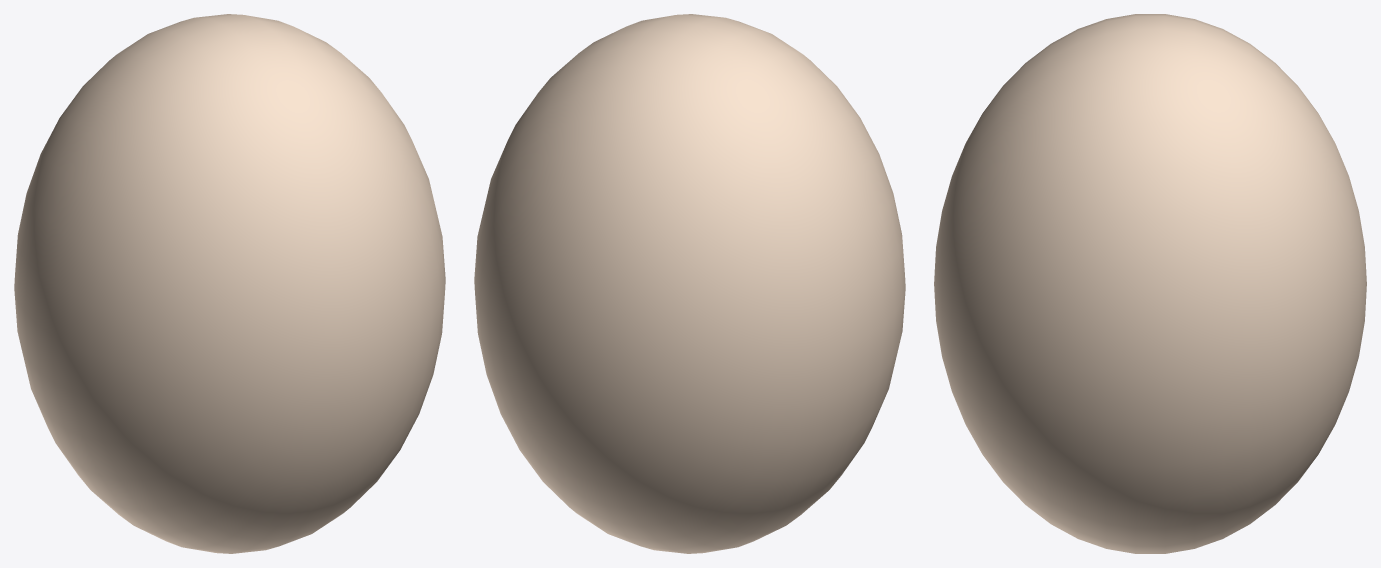
Rendered from kinrel_cameo_b1_test.glb.
3 views of the same model, side by side, from view 1: azimuth 30°, elevation 25°; view 2: azimuth 150°, elevation 25°; view 3: azimuth 270°, elevation 25° (orthographic).
Parts seen in each view (by area): view 1: SyntheticHead; view 2: SyntheticHead; view 3: SyntheticHead.
Boxes of the visible parts, bbox=[...] form: SyntheticHead: bbox=[14, 14, 445, 553]; SyntheticHead: bbox=[474, 14, 905, 553]; SyntheticHead: bbox=[934, 14, 1366, 553].
Size of the model in its own units: 2 by 2.59 by 2.
